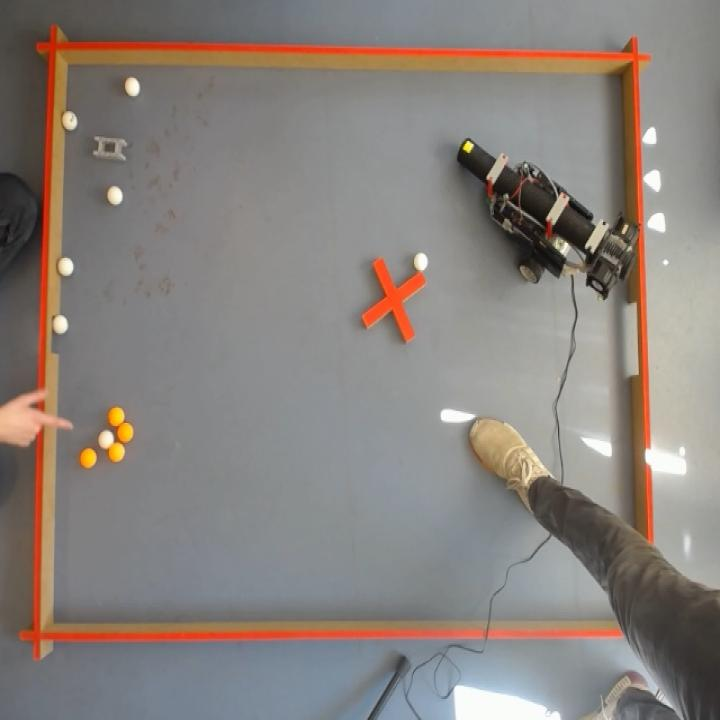orange: (80, 448, 97, 469), (117, 423, 134, 443), (108, 407, 124, 428), (109, 443, 125, 462)
robot: (457, 138, 639, 300)
robot-front: (457, 138, 492, 180)
white: (103, 184, 125, 210), (122, 75, 142, 102), (56, 256, 77, 280), (61, 109, 80, 135), (52, 314, 70, 336), (98, 430, 114, 449), (414, 253, 428, 271)
